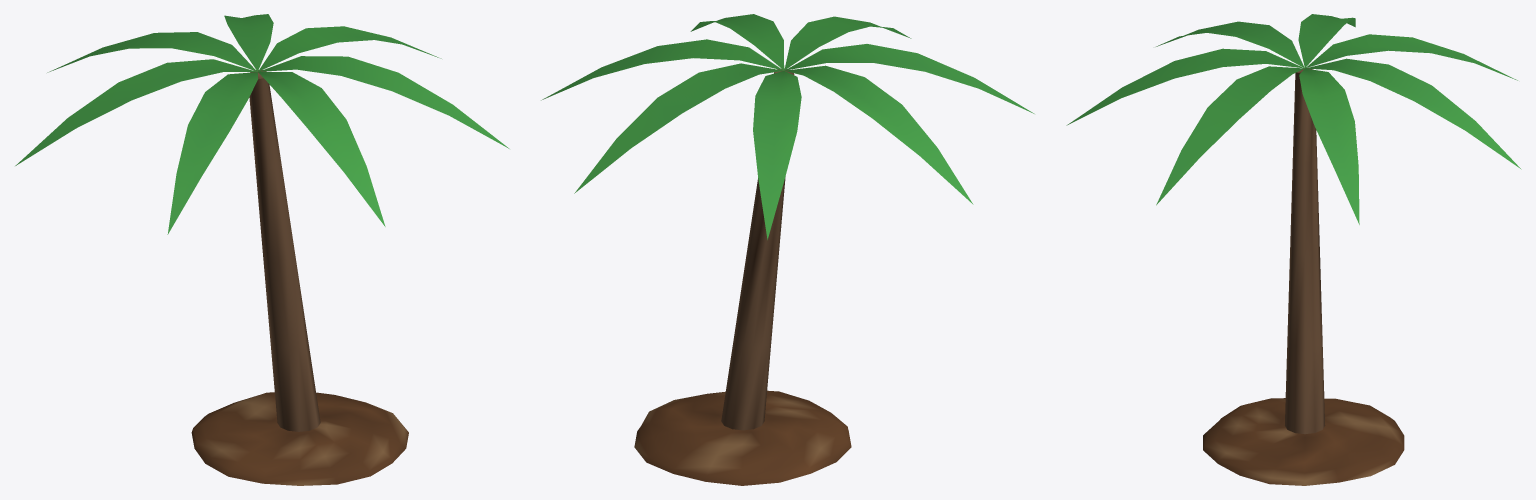
The model's file is plant-coconut-3.gltf.
The picture shows the model from 3 angles, left to right: view 1: azimuth 30°, elevation 25°; view 2: azimuth 150°, elevation 25°; view 3: azimuth 270°, elevation 25°; orthographic projection. The views are drawn at different scales.
Size of the model in its own units: 2.93 by 2.53 by 2.86.
